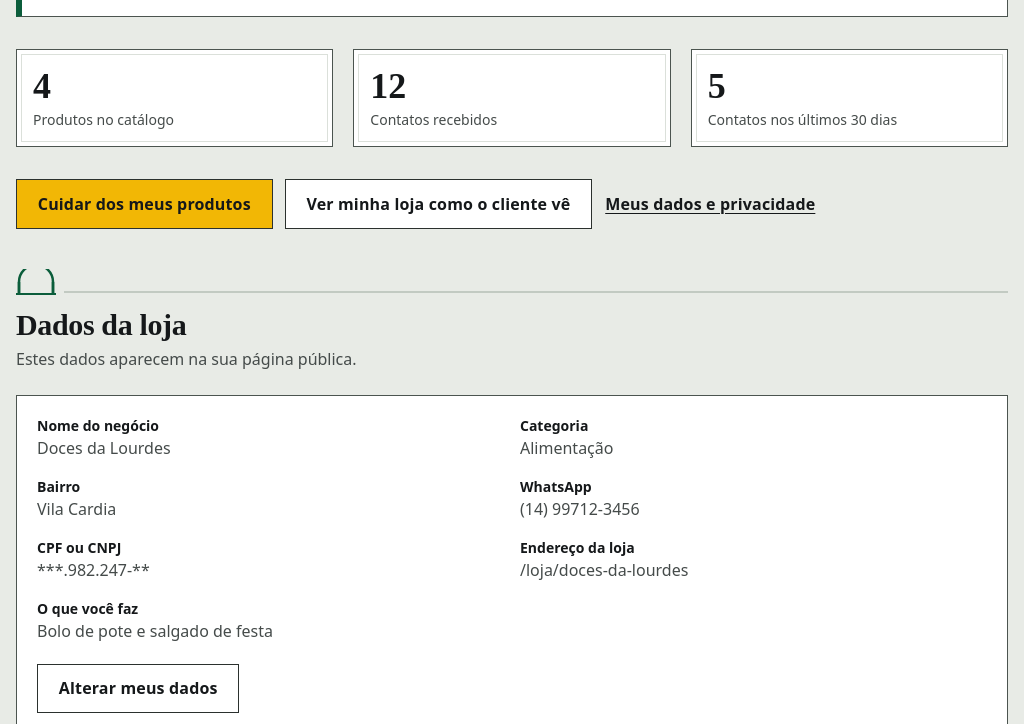
painel do empreendedor › abre o formulário de alteração dos dados
(page scrolled)
What coordinates should you click on to do the following:
click the button "Alterar meus dados"
I would click on:
 (138, 688)
Its box is [37, 664, 239, 713].
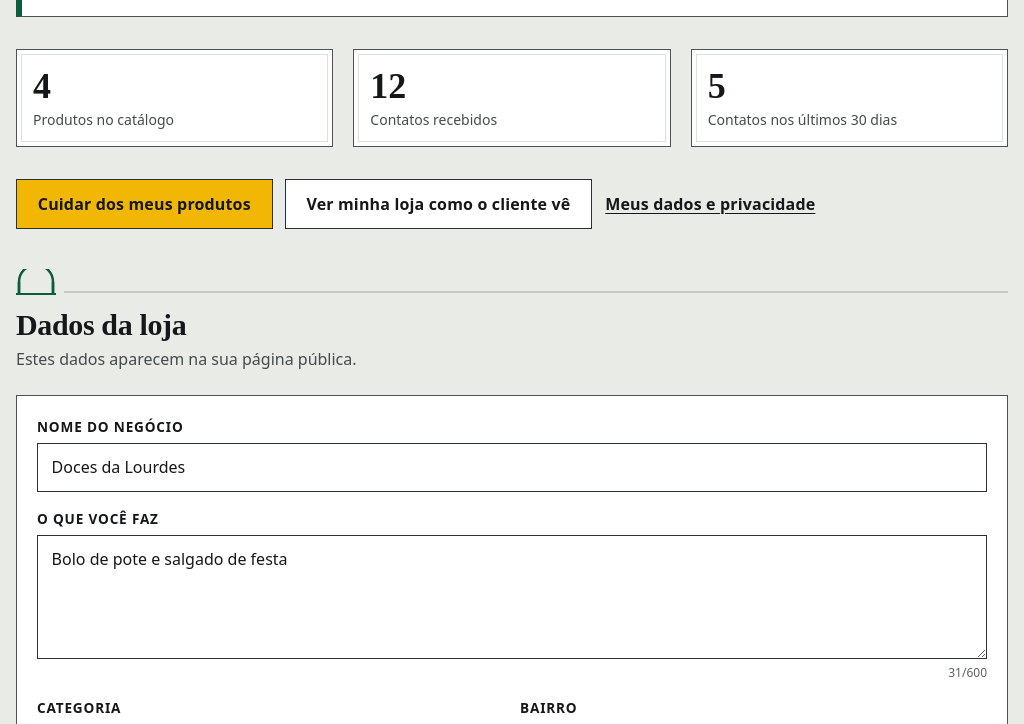
Expected: the field labelled "Nome do negócio" holds "Doces da Lourdes", [37, 443, 987, 492]
